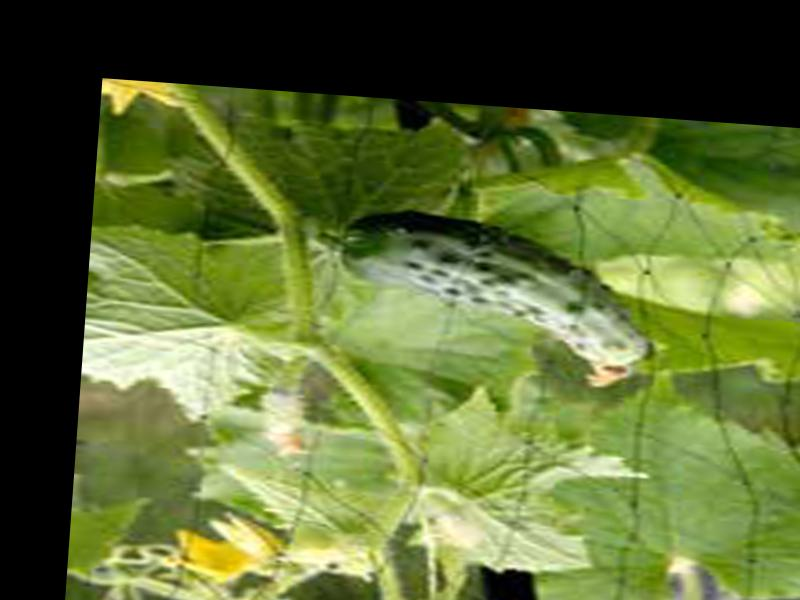Cucumber: (325, 207, 660, 392)
